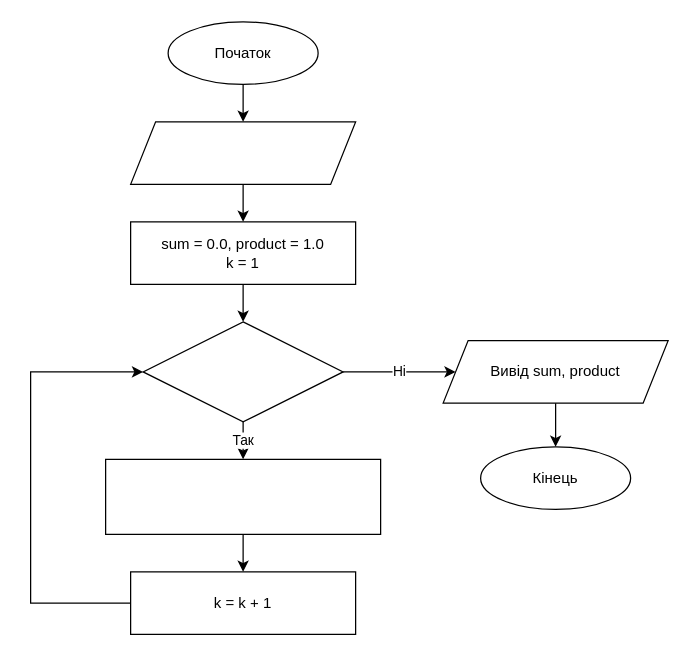
Image size: 690x656. Some labels were removed from this diagram. Here are the shapes that lost their labels. From the top down, the centre of each, then its label:
(x=242, y=152): Введення n
(x=242, y=371): k <= n ?
(x=242, y=496): term = (1 + cos(2k)) / 2^k sum += term, product *= term
